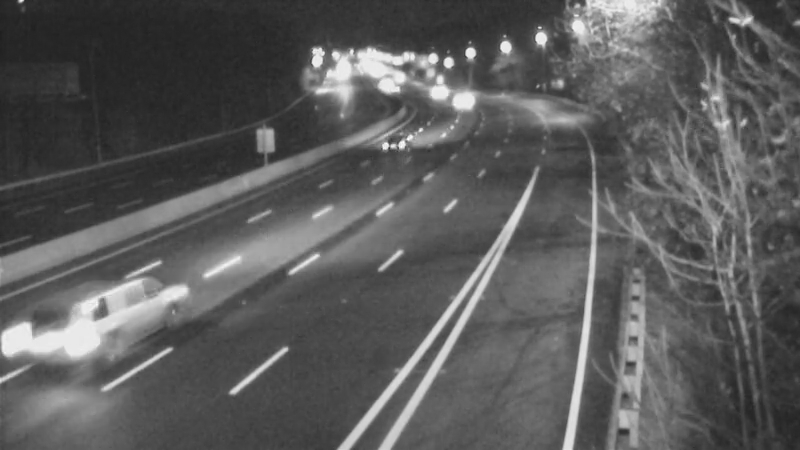vehicle: (49, 264, 159, 374), (410, 71, 460, 121), (431, 76, 481, 126), (370, 118, 420, 168)
